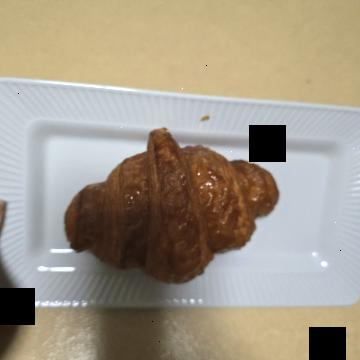croissant: (108, 57, 296, 302)
